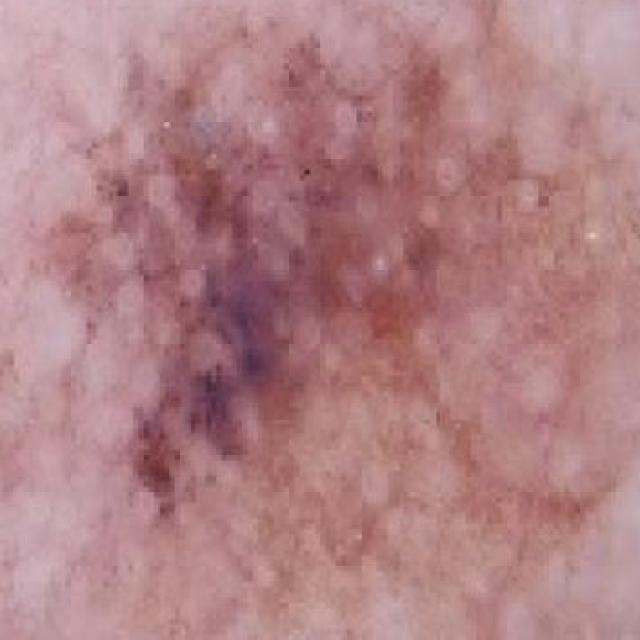BKL: (54, 18, 640, 639)
